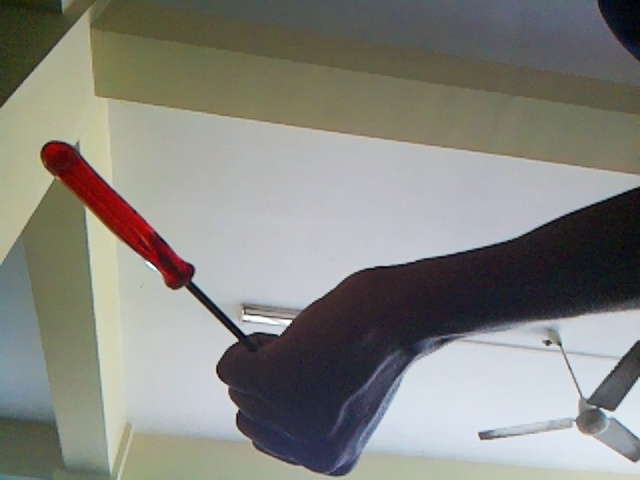redskrew: (40, 142, 257, 348)
